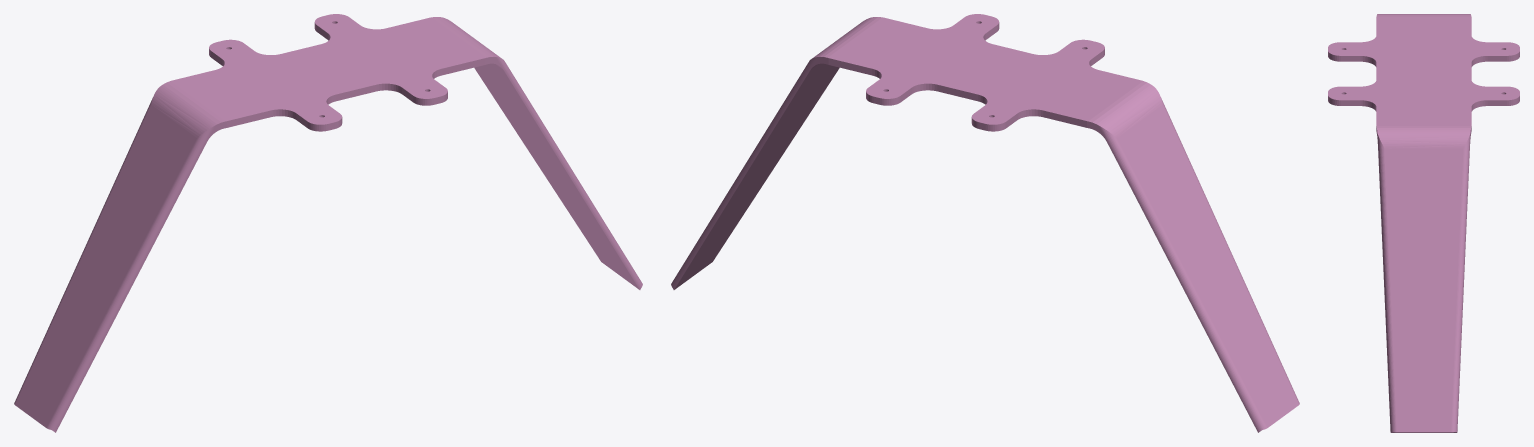
The model's file is case-05_lib00012.glb.
3 renders of one model, left to right at view 1: azimuth 30°, elevation 25°; view 2: azimuth 150°, elevation 25°; view 3: azimuth 270°, elevation 25°, orthographic. The views are drawn at different scales.
Parts seen in each view (by area): view 1: lib00012; view 2: lib00012; view 3: lib00012.
Boxes of the visible parts, box(x1,y1,x2,y2) form: lib00012: box(14, 14, 642, 432); lib00012: box(671, 14, 1299, 432); lib00012: box(1328, 14, 1519, 432).
Size of the model in its own units: 78 by 34.8 by 25.32.
